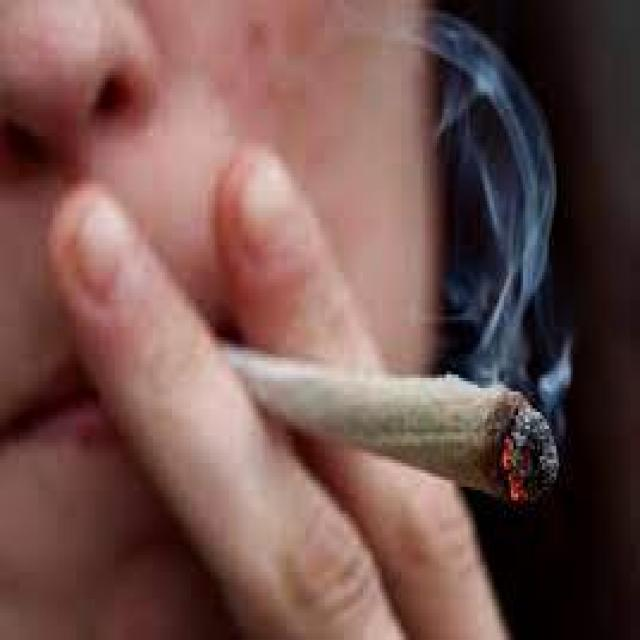smoke: (222, 337, 561, 511)
